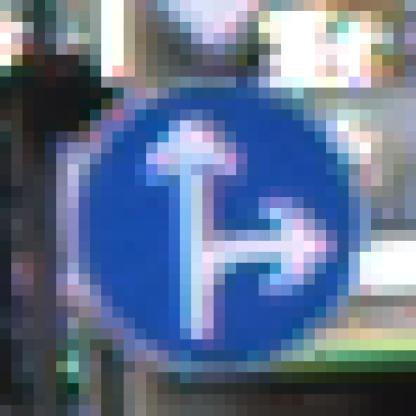Straight or Right: (57, 56, 350, 351)
